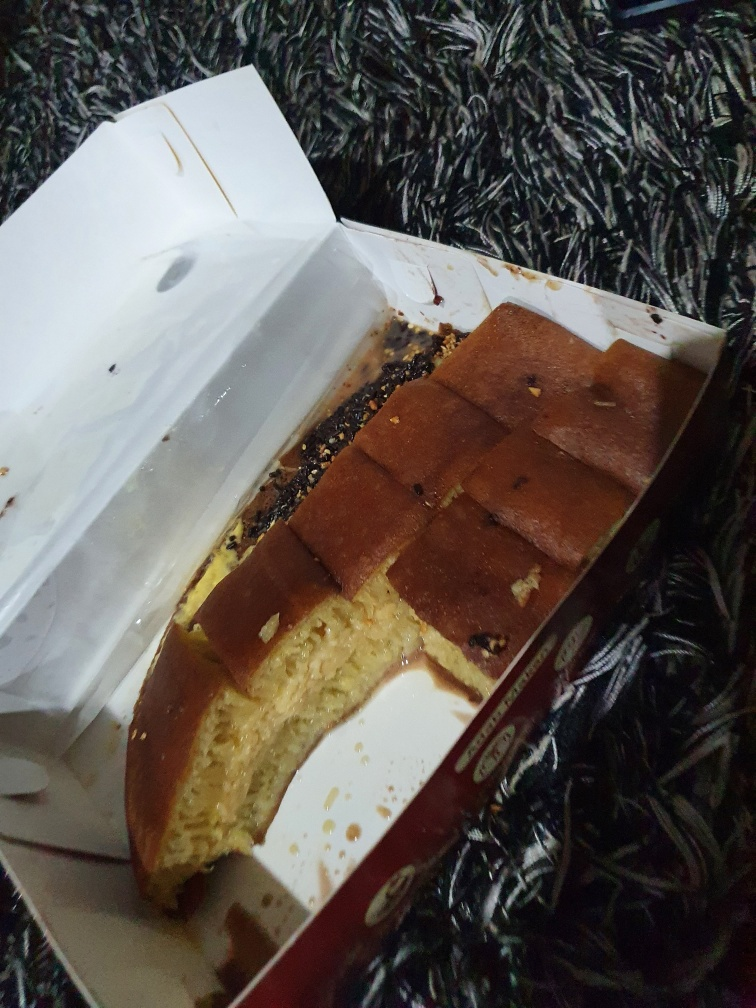martabak manis: (72, 627, 274, 888), (170, 498, 353, 727), (272, 422, 429, 654), (377, 497, 561, 683), (516, 303, 692, 475), (341, 356, 489, 508), (464, 423, 623, 558), (407, 286, 563, 423)
